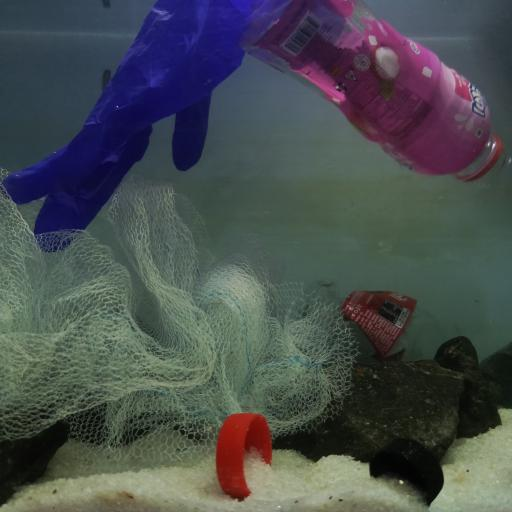bottle_cap: (368, 436, 446, 505), (216, 411, 273, 497)
glove: (0, 0, 289, 248)
net: (0, 173, 360, 456)
plastic_bottle: (243, 0, 512, 183), (302, 276, 454, 356)
